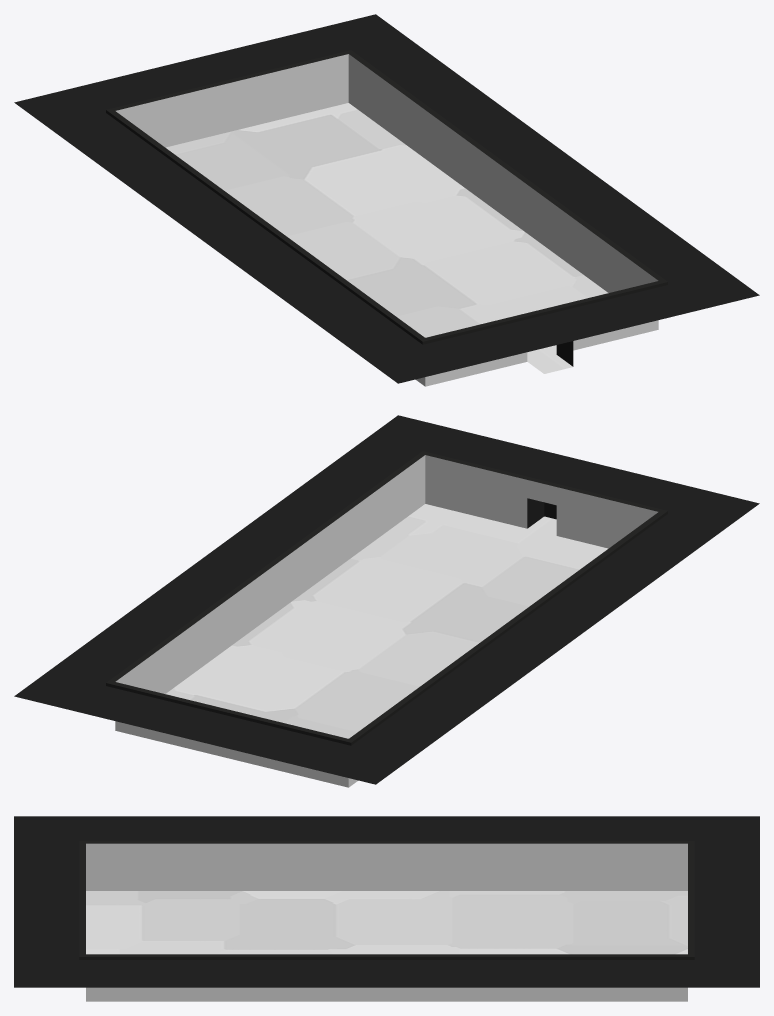
Rendered from Room 2x1x1.fbx.
3 renders of one model, top to bottom at view 1: azimuth 30°, elevation 25°; view 2: azimuth 150°, elevation 25°; view 3: azimuth 270°, elevation 25°, orthographic. The views are drawn at different scales.
Visible parts, largest first — view 1: Room_2x1x1; view 2: Room_2x1x1; view 3: Room_2x1x1.
Part boxes in pixels (x1,y1,x2,y2): Room_2x1x1: [14, 14, 759, 386]; Room_2x1x1: [14, 415, 759, 787]; Room_2x1x1: [14, 816, 759, 1001].
Size of the model in its own units: 62 by 114 by 8.
